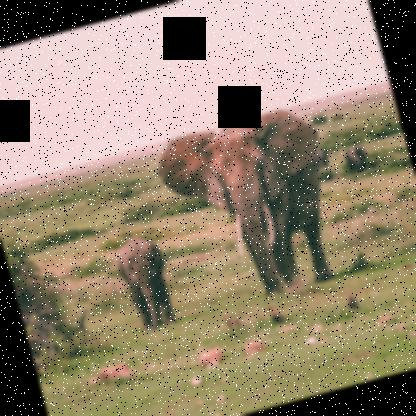Elephas-maximus: (148, 97, 357, 318), (108, 229, 182, 336)
